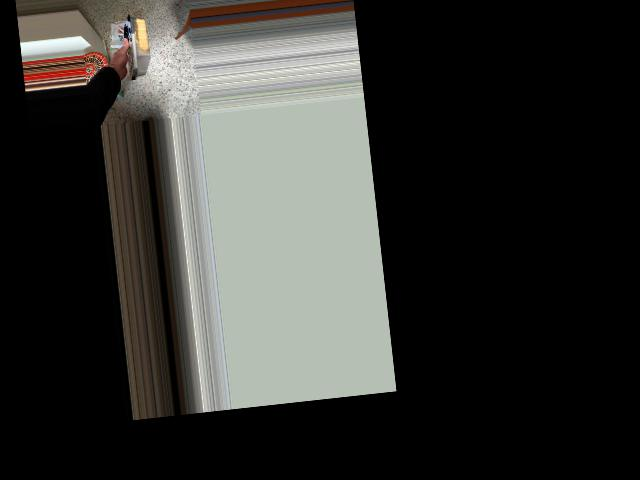cheese: (85, 13, 158, 88)
